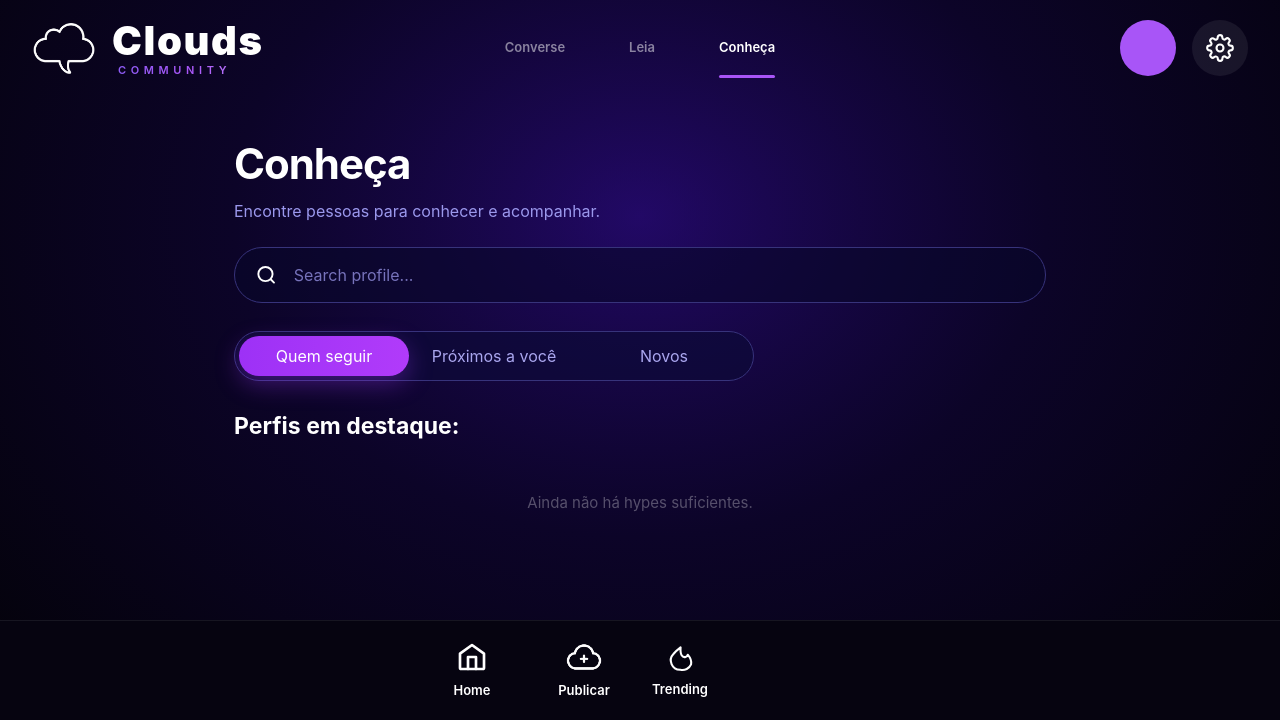
it: Meet featured profiles › keeps categories and removes period controls at 1280px
The width and height of the screenshot is (1280, 720).
expect the heading "Perfis em destaque:" is shown: met, box 234,409 -> 460,444
expect the text "Ainda não há hypes suficientes." is shown: met, box 527,492 -> 753,512
Step 1. Click the button "Novos" → (664, 356), box 579,336 -> 749,376
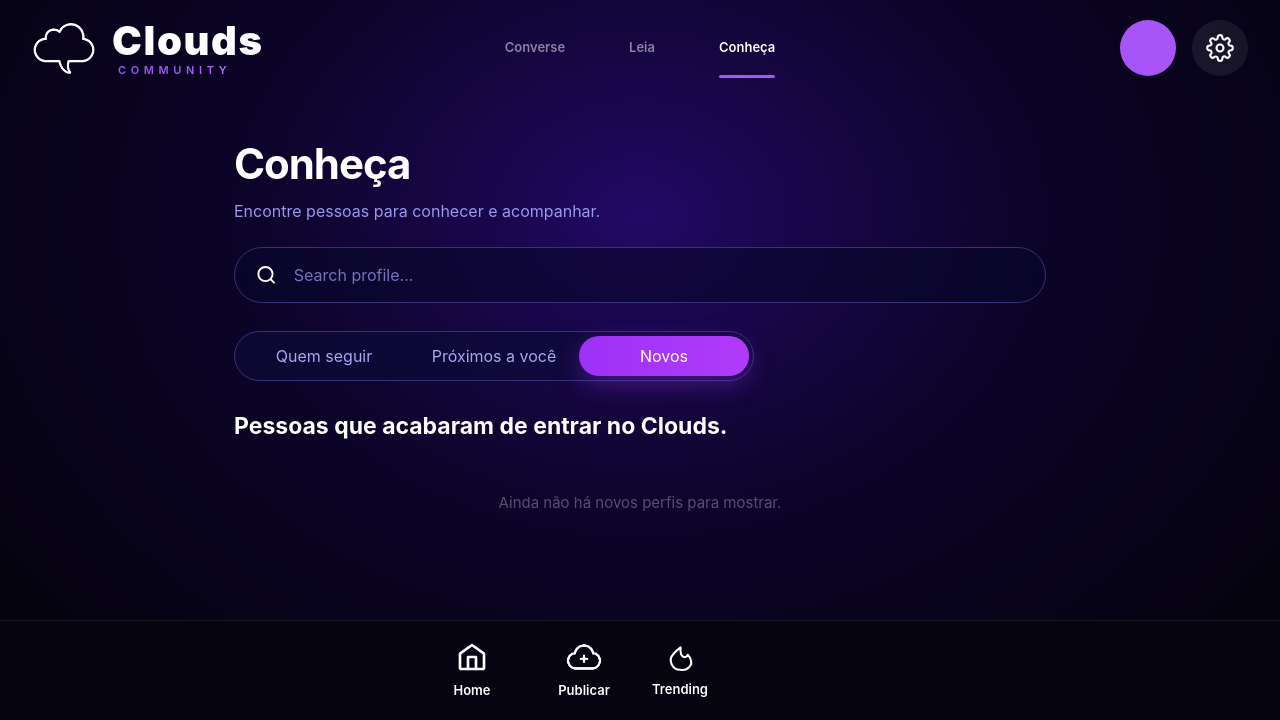
expect the heading "Pessoas que acabaram de entrar no Clouds." is shown: met, box 234,409 -> 728,444
Step 2. Click the button "Quem seguir" → (324, 356), box 239,336 -> 409,376
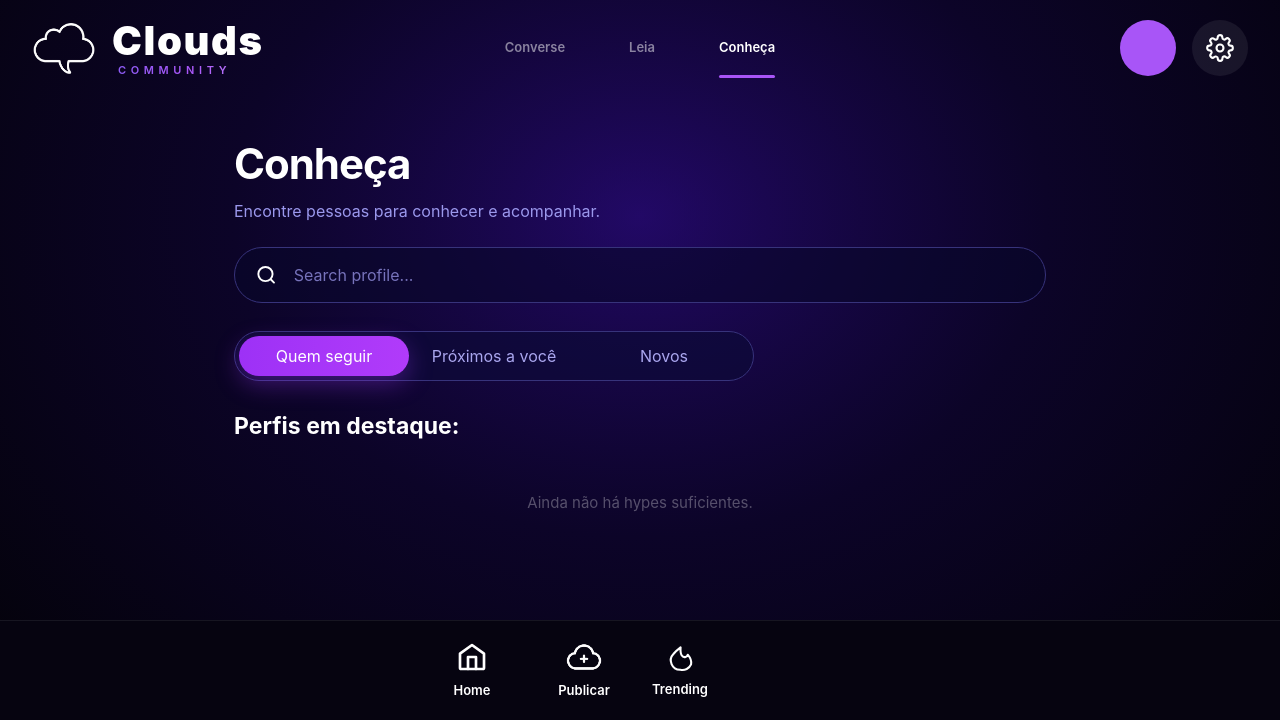
expect the heading "Perfis em destaque:" is shown: met, box 234,409 -> 460,444
